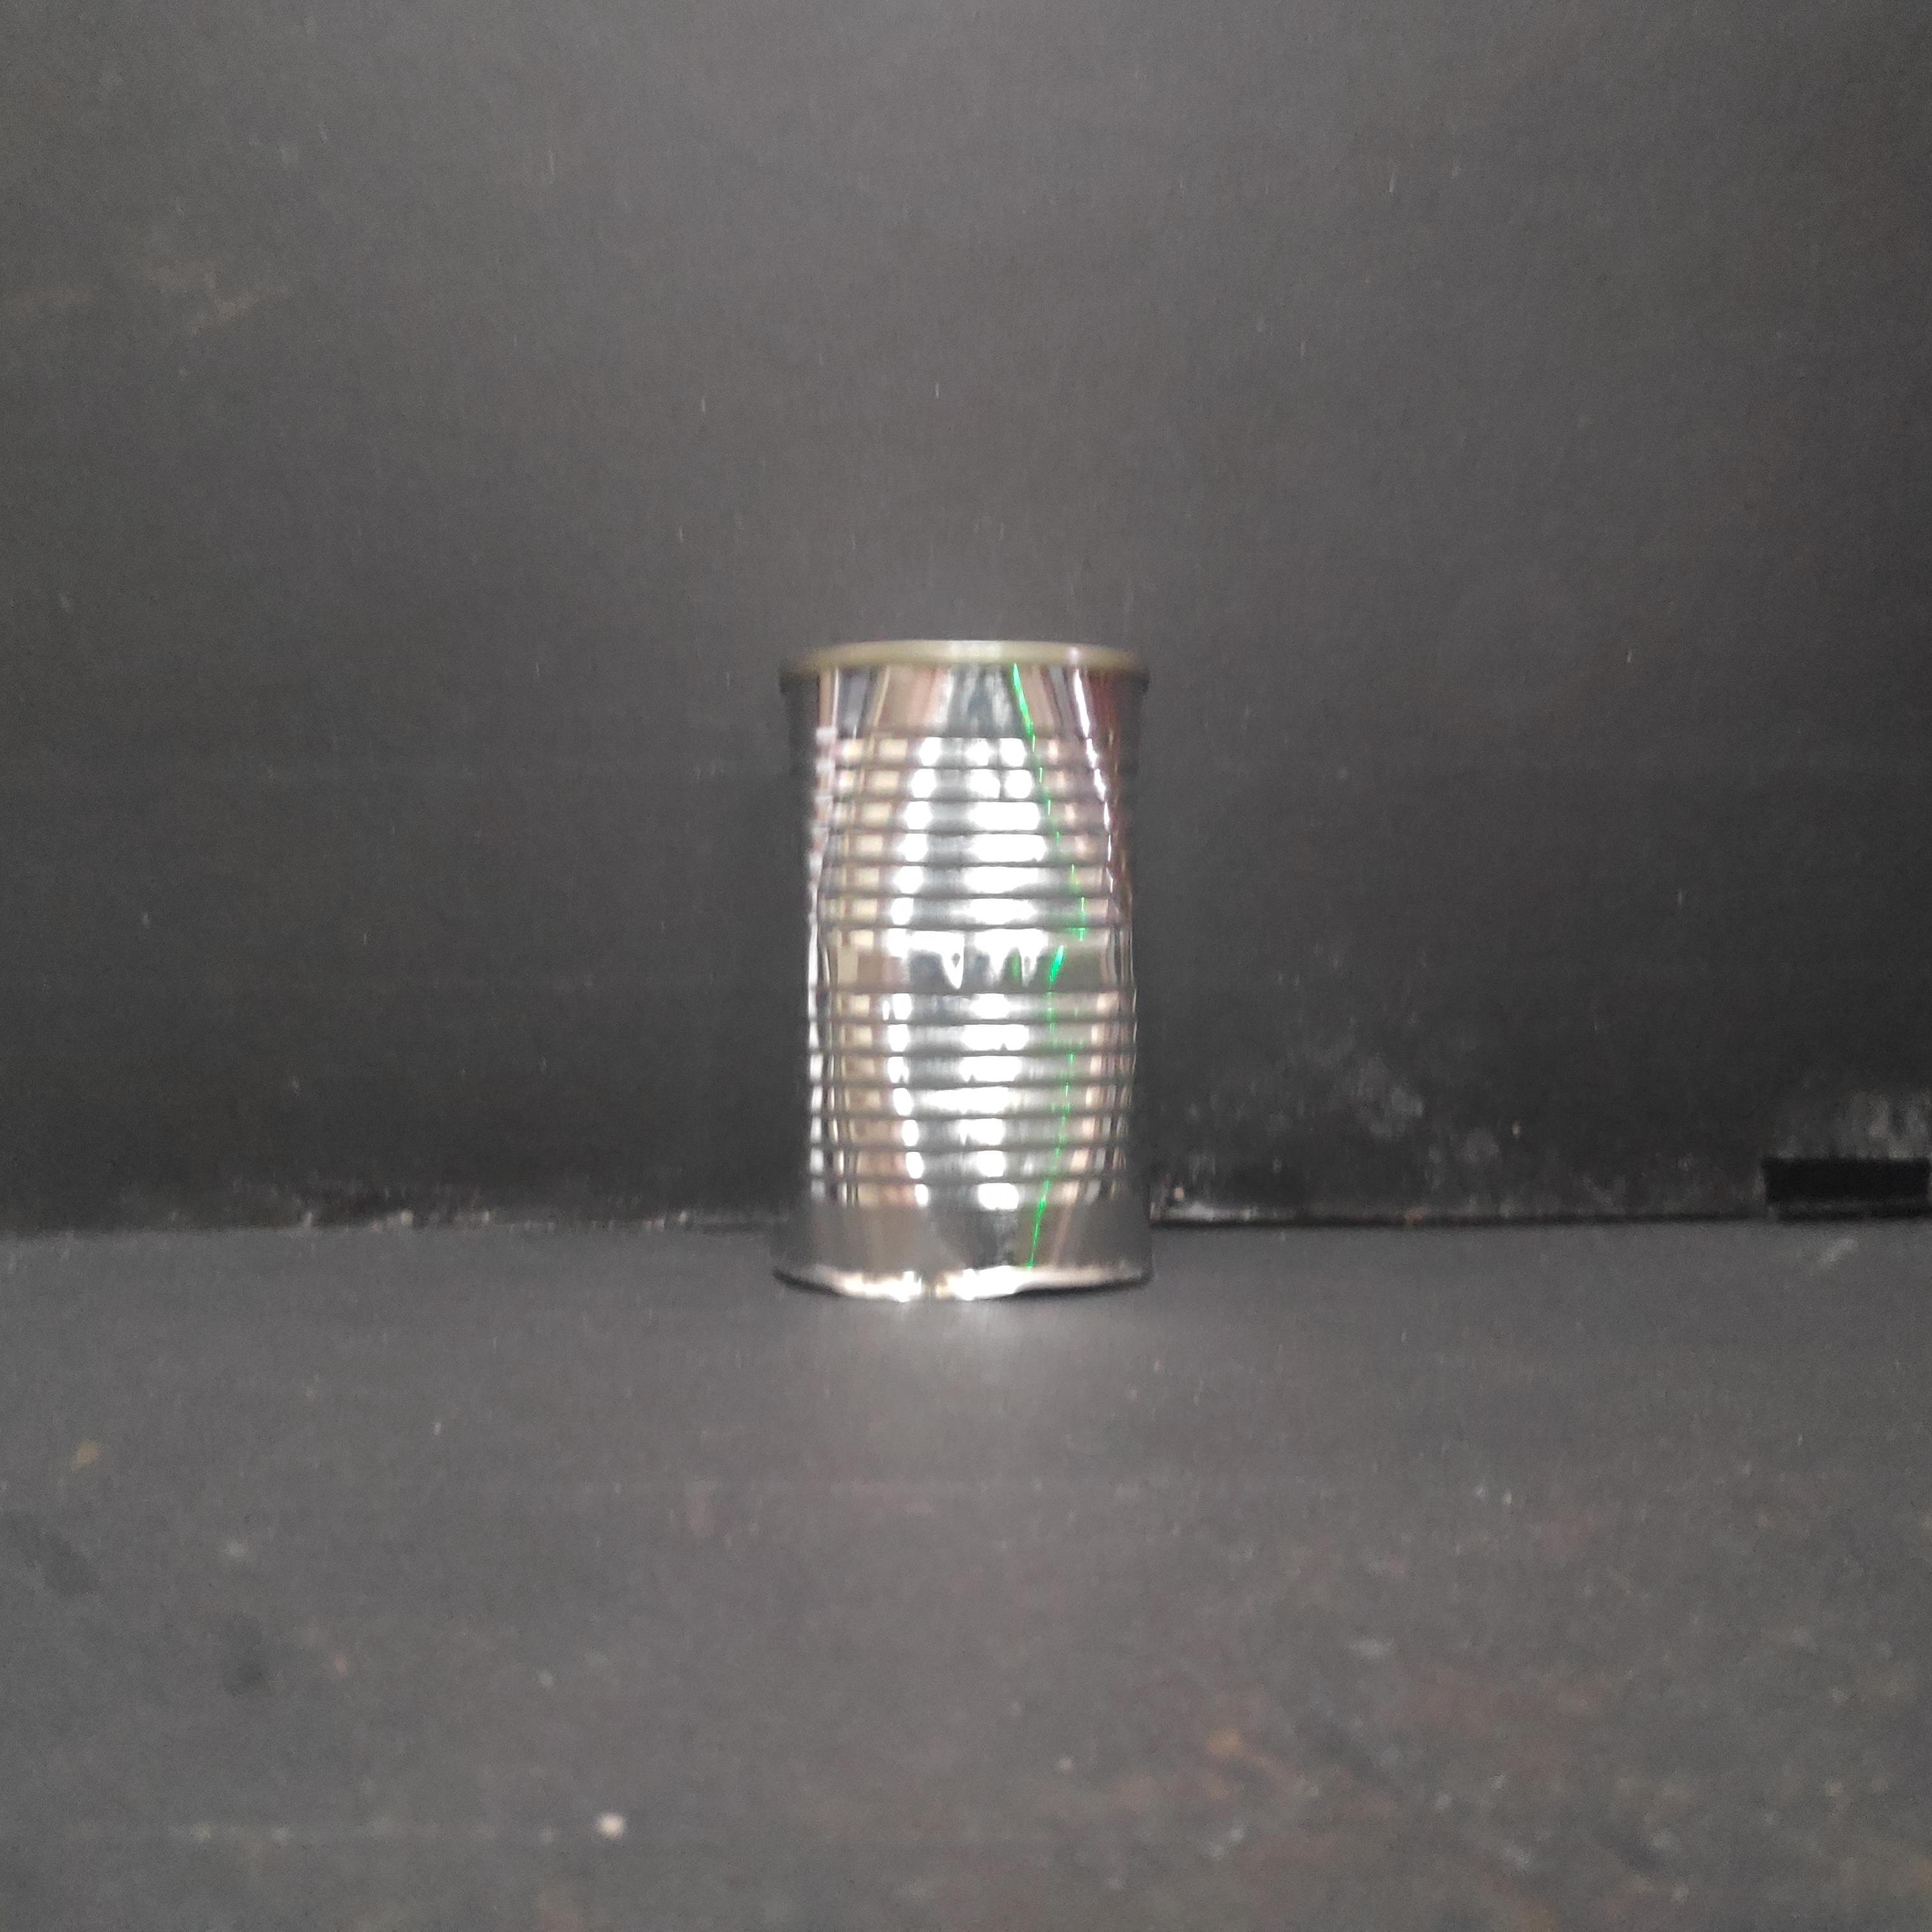Minor Defect: (771, 630, 1160, 1320)
